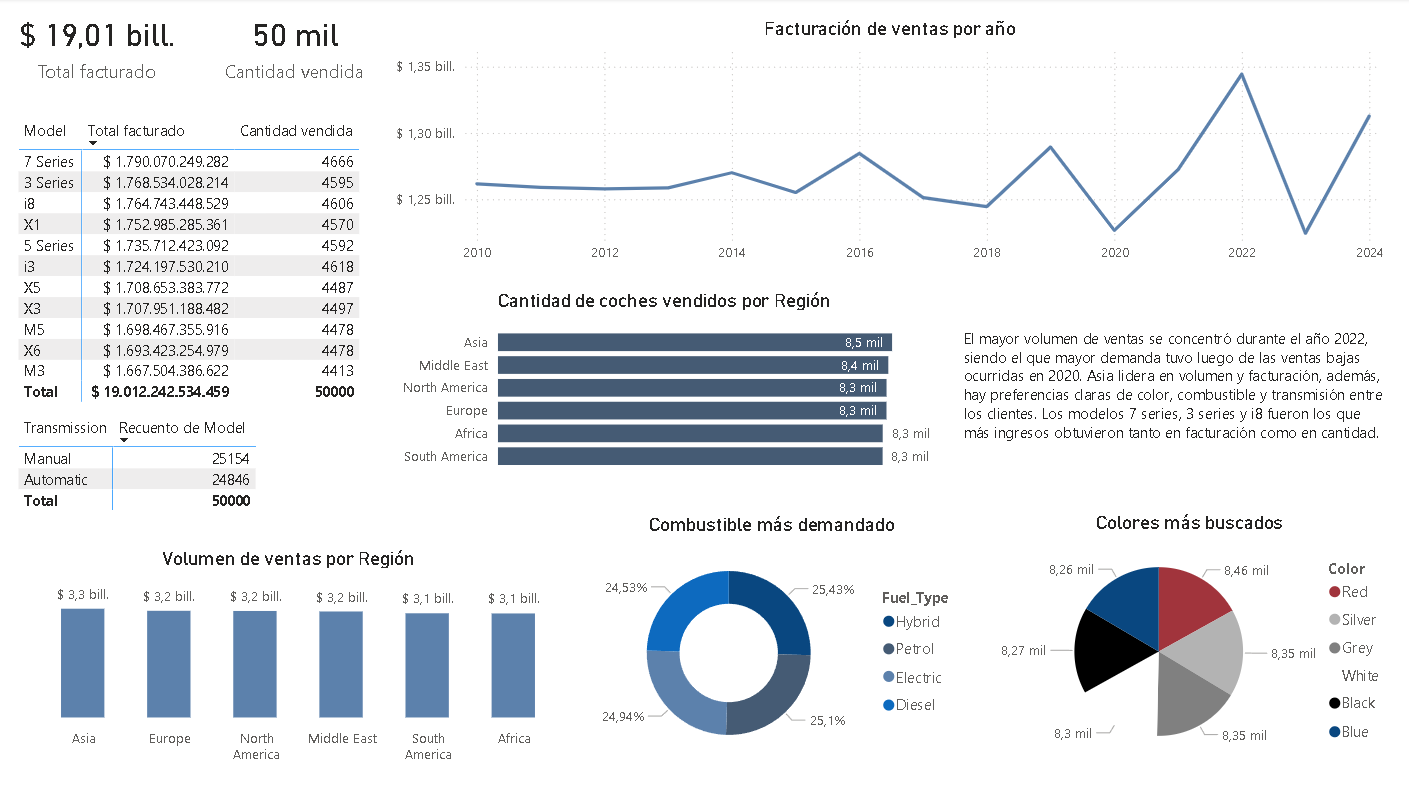

What the dashboard file says about the page in this screenshot:
{"tool":"powerbi","page":{"name":"Página 1","canvas":[1280,720],"ordinal":0},"visuals":[{"type":"lineChart","title":"Facturación de ventas por año","fields":{"Category":["BMW.Year"],"Y":["BMW.Total_facturado"]},"box":[356.4,17.2,903.2,230.3],"z":0},{"type":"card","fields":{"Values":["BMW.Total_facturado"]},"box":[0,0,176.8,84.3],"z":1},{"type":"card","fields":{"Values":["BMW.Cantidad vendida"]},"box":[179.5,0,176.8,84.3],"z":2},{"type":"barChart","title":"Cantidad de coches vendidos por Región","fields":{"Category":["BMW.Region"],"Y":["BMW.Cantidad vendida"]},"box":[355.8,264.1,495.9,173.4],"z":3},{"type":"pivotTable","fields":{"Rows":["BMW.Model"],"Values":["BMW.Total facturado","BMW.Cantidad vendida"]},"box":[13.1,104.8,326.6,270.1],"z":4},{"type":"donutChart","title":"Combustible más demandado","fields":{"Category":["BMW.Fuel_Type"],"Y":["CountNonNull(BMW.Fuel_Type)"]},"box":[518,466.6,365.9,234.8],"z":5},{"type":"clusteredColumnChart","title":"Volumen de ventas por Región","fields":{"Category":["BMW.Region"],"Y":["BMW.Total facturado"]},"box":[0,497.9,525.1,203.6],"z":6},{"type":"pivotTable","fields":{"Rows":["BMW.Transmission"],"Values":["CountNonNull(BMW.Model)"]},"box":[13.1,374.9,228.8,99.8],"z":7},{"type":"pieChart","title":"Colores más buscados","fields":{"Category":["BMW.Color"],"Y":["CountNonNull(BMW.Color)"]},"box":[893,465.6,372.9,235.8],"z":8},{"type":"textbox","box":[869.8,294.3,396.1,131],"z":9}]}

Visuals, with their boxes in screenshot pixels (x1, y1, x2, y2), scaled from the page's 1280x720 canvas onto the 1409x791 screenshot:
"Facturación de ventas por año" lineChart: x1=392 y1=19 x2=1387 y2=272
card - BMW.Total_facturado: x1=0 y1=0 x2=195 y2=93
card - BMW.Cantidad vendida: x1=198 y1=0 x2=392 y2=93
"Cantidad de coches vendidos por Región" barChart: x1=392 y1=290 x2=938 y2=481
pivotTable - BMW.Model x BMW.Total facturado: x1=14 y1=115 x2=374 y2=412
"Combustible más demandado" donutChart: x1=570 y1=513 x2=973 y2=771
"Volumen de ventas por Región" clusteredColumnChart: x1=0 y1=547 x2=578 y2=771
pivotTable - BMW.Transmission x CountNonNull(BMW.Model): x1=14 y1=412 x2=266 y2=522
"Colores más buscados" pieChart: x1=983 y1=512 x2=1393 y2=771
textbox: x1=957 y1=323 x2=1393 y2=467
